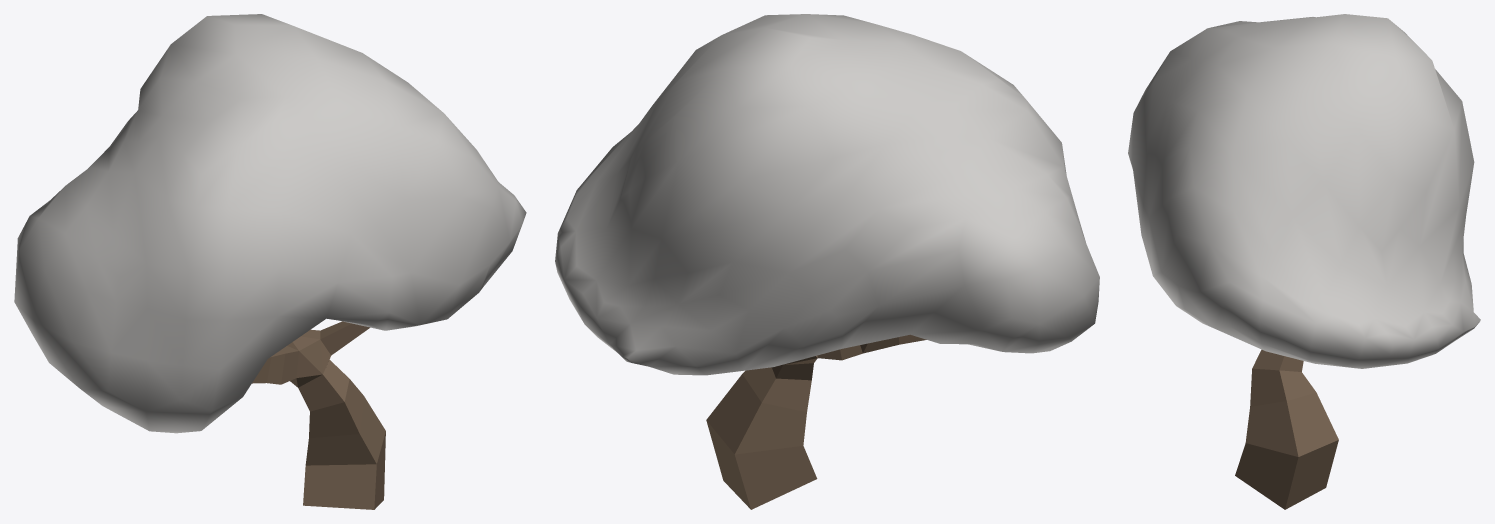
File: Bush_009.fbx
3 renders of one model, left to right at view 1: azimuth 30°, elevation 25°; view 2: azimuth 150°, elevation 25°; view 3: azimuth 270°, elevation 25°, orthographic. The views are drawn at different scales.
Visible parts, largest first — view 1: Bush.009; view 2: Bush.009; view 3: Bush.009.
Part boxes in pixels (box(x1,y1,x2,y2)): Bush.009: box(14, 14, 526, 509); Bush.009: box(555, 14, 1099, 509); Bush.009: box(1128, 14, 1480, 509).
Size of the model in its own units: 407 by 390 by 282.
